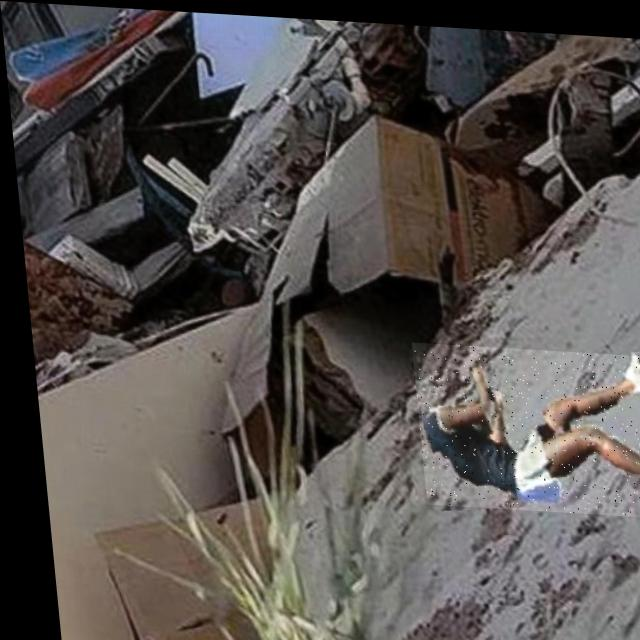Person in Rubble: (405, 337, 640, 511)
